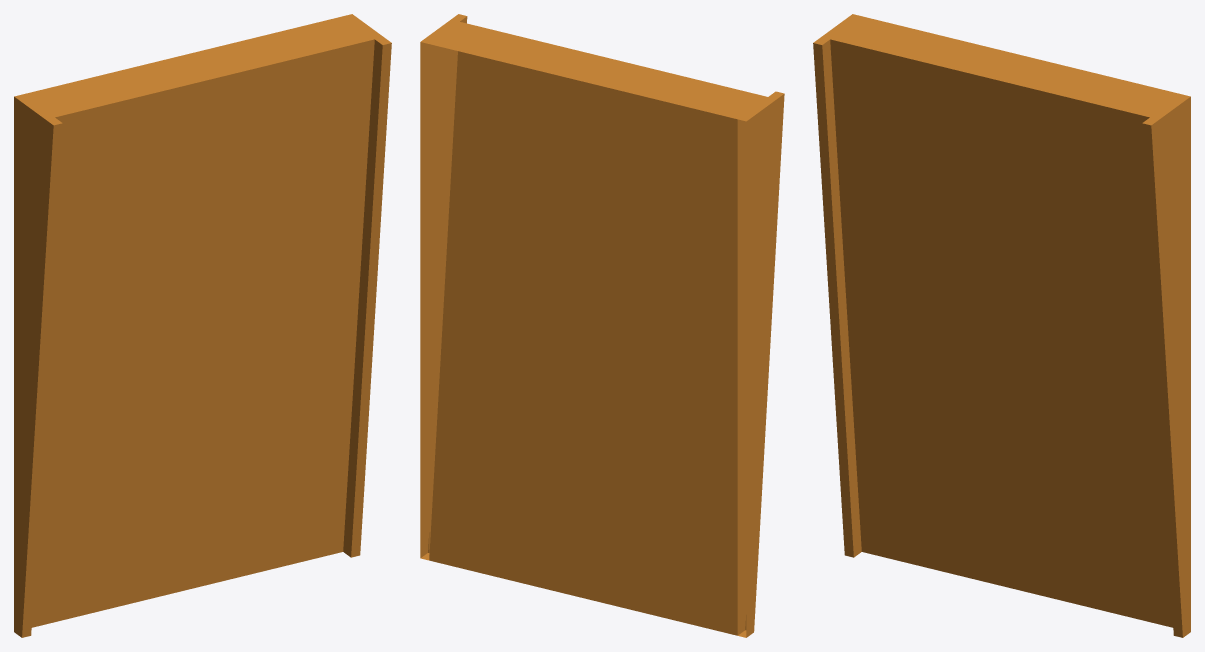
The model's file is ramp.obj.
3 renders of one model, left to right at view 1: azimuth 30°, elevation 25°; view 2: azimuth 150°, elevation 25°; view 3: azimuth 330°, elevation 25°, orthographic. The views are drawn at different scales.
Visible parts, largest first — view 1: Ramp; view 2: Ramp; view 3: Ramp.
Boxes of the visible parts, x1,y1,x2,y2 form: Ramp: (14, 14, 391, 637); Ramp: (420, 14, 784, 637); Ramp: (813, 14, 1190, 637).
Bounding box in the file's own units: 3700 × 5600 × 750.
